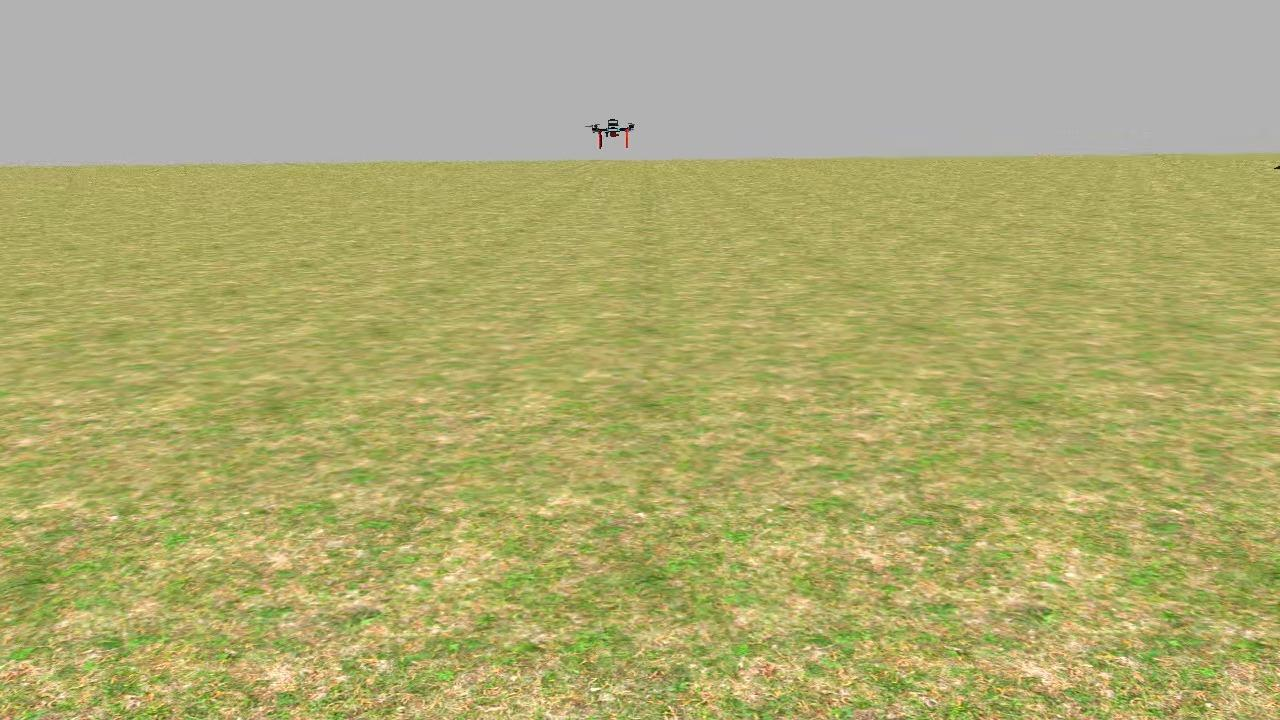UAV: (569, 104, 653, 165)
